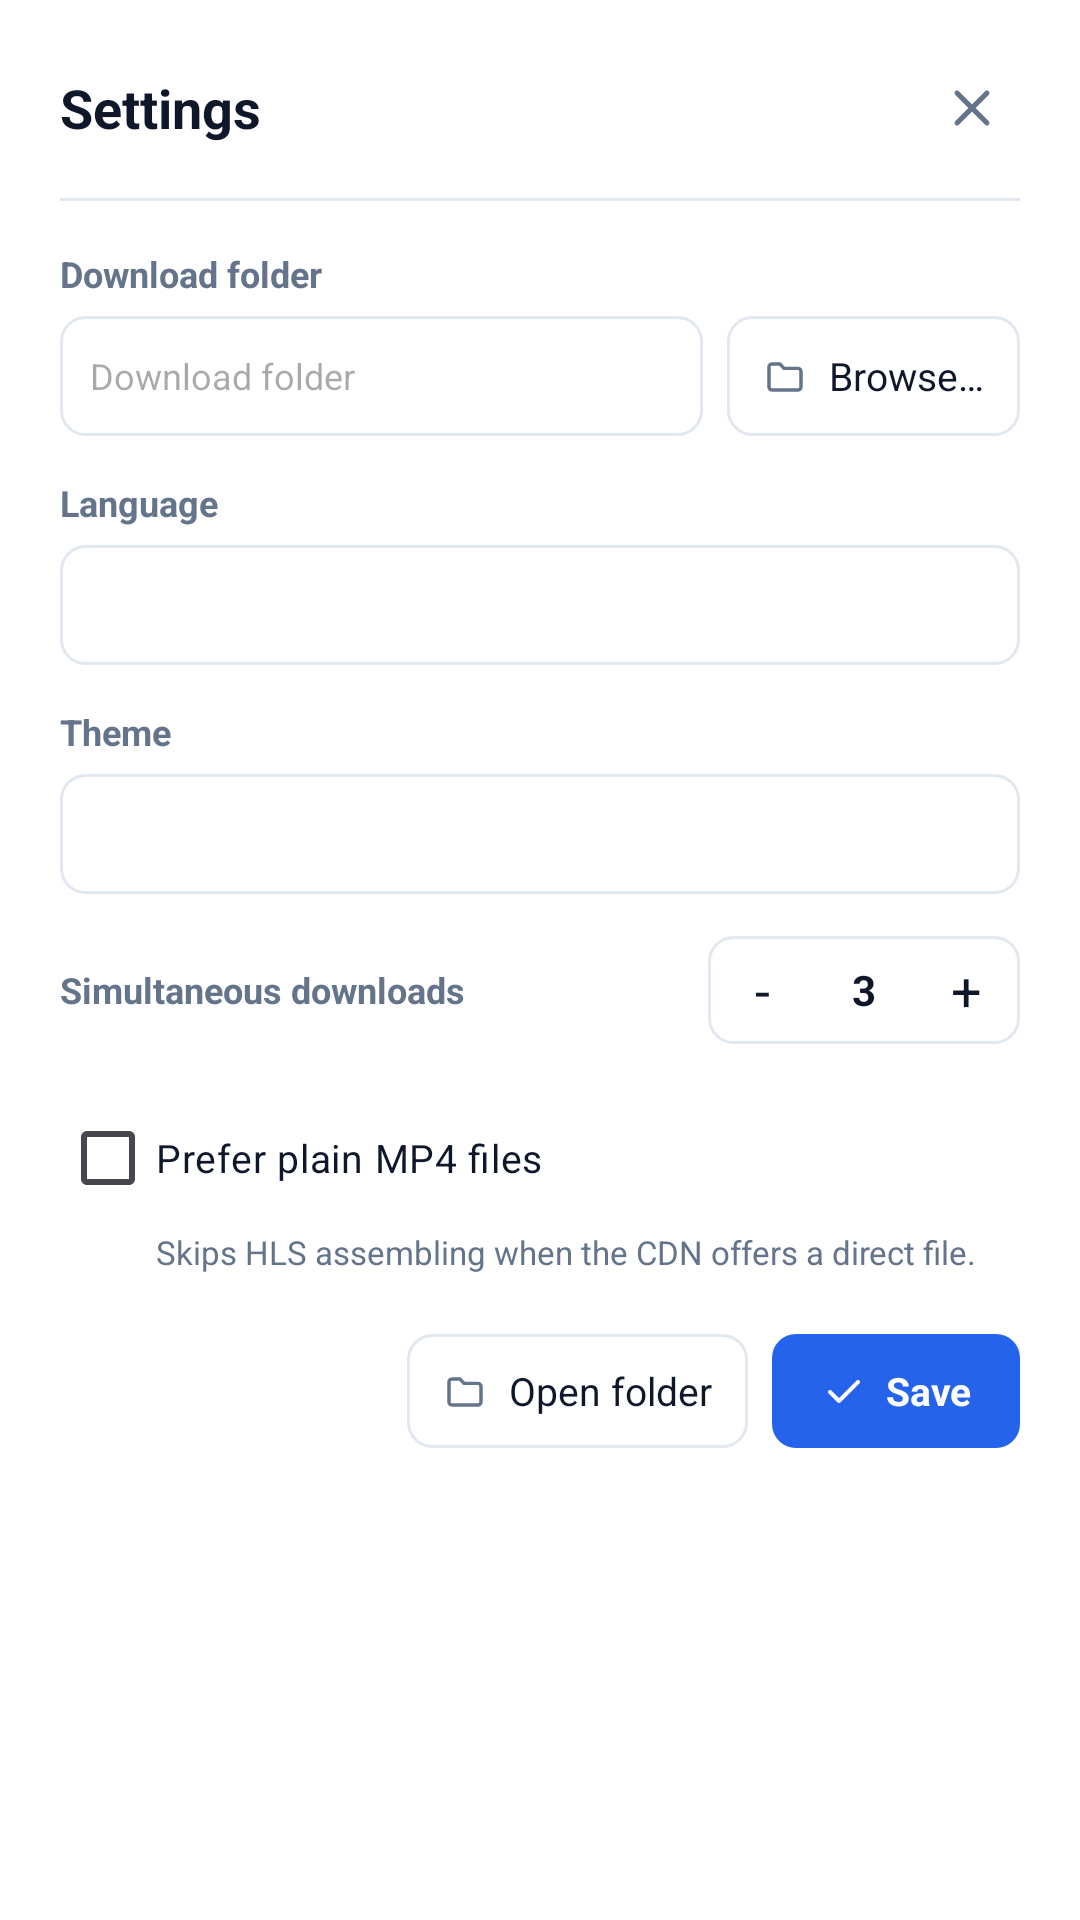

Point at icon controls on the screen. Image size 1080×1920, points as (x,y).
check: (844,1391)
Close: (972,108)
